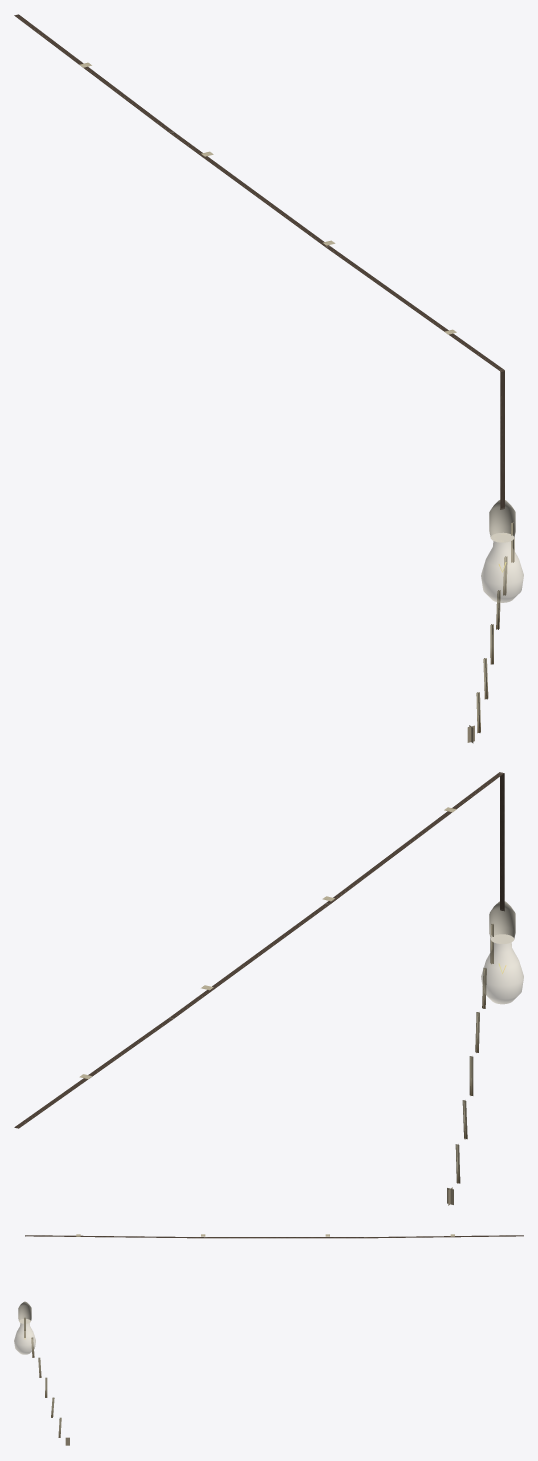
The model's file is DenHam_FullAssembly.glb.
The picture shows the model from 3 angles, top to bottom: view 1: azimuth 30°, elevation 25°; view 2: azimuth 150°, elevation 25°; view 3: azimuth 270°, elevation 25°; orthographic projection. The views are drawn at different scales.
Visible parts, largest first — view 1: BongDayToc_than, BongDayToc; view 2: BongDayToc_than, BongDayToc; view 3: BongDayToc_than, BongDayToc.
Part boxes in pixels (x1,y1,x2,y2): BongDayToc_than: [14, 14, 515, 743]; BongDayToc: [481, 534, 523, 602]; BongDayToc_than: [14, 772, 515, 1205]; BongDayToc: [481, 942, 523, 1004]; BongDayToc_than: [18, 1234, 523, 1445]; BongDayToc: [14, 1323, 35, 1354].
Size of the model in its own units: 0.062 by 0.643 by 1.43.
Materials: 11 (8 with a texture image).
